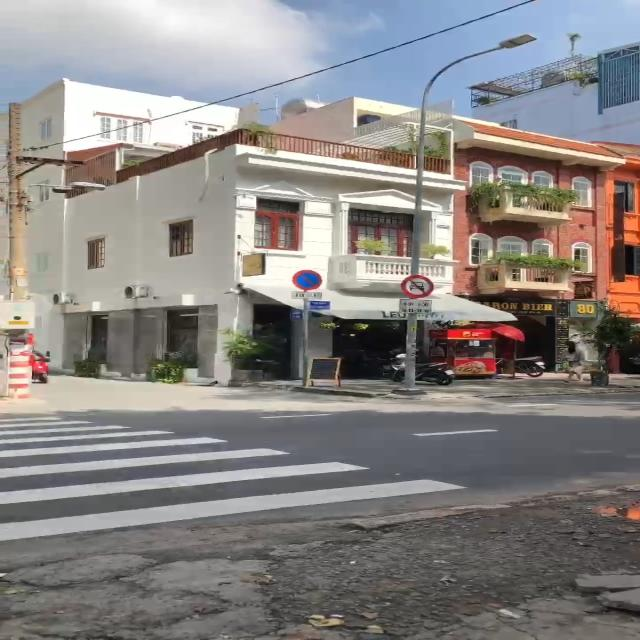Bien bao cam do xe: (290, 270, 325, 291)
Bien bao cam xe oto: (399, 270, 440, 300)
